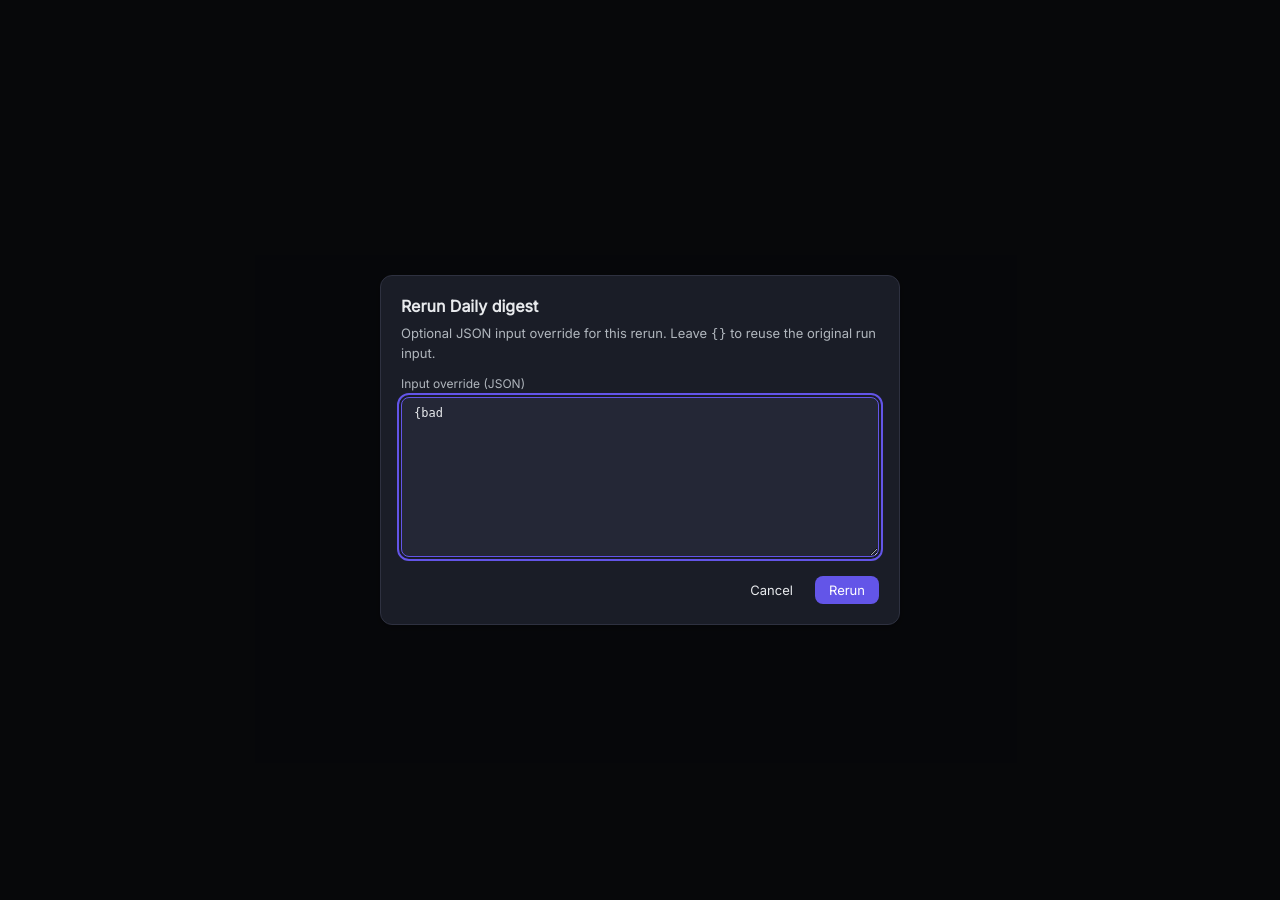
Test: RerunModal › shows JSON parse errors inline
Click the button "Rerun".
click(847, 590)  # box [815,576,879,604]
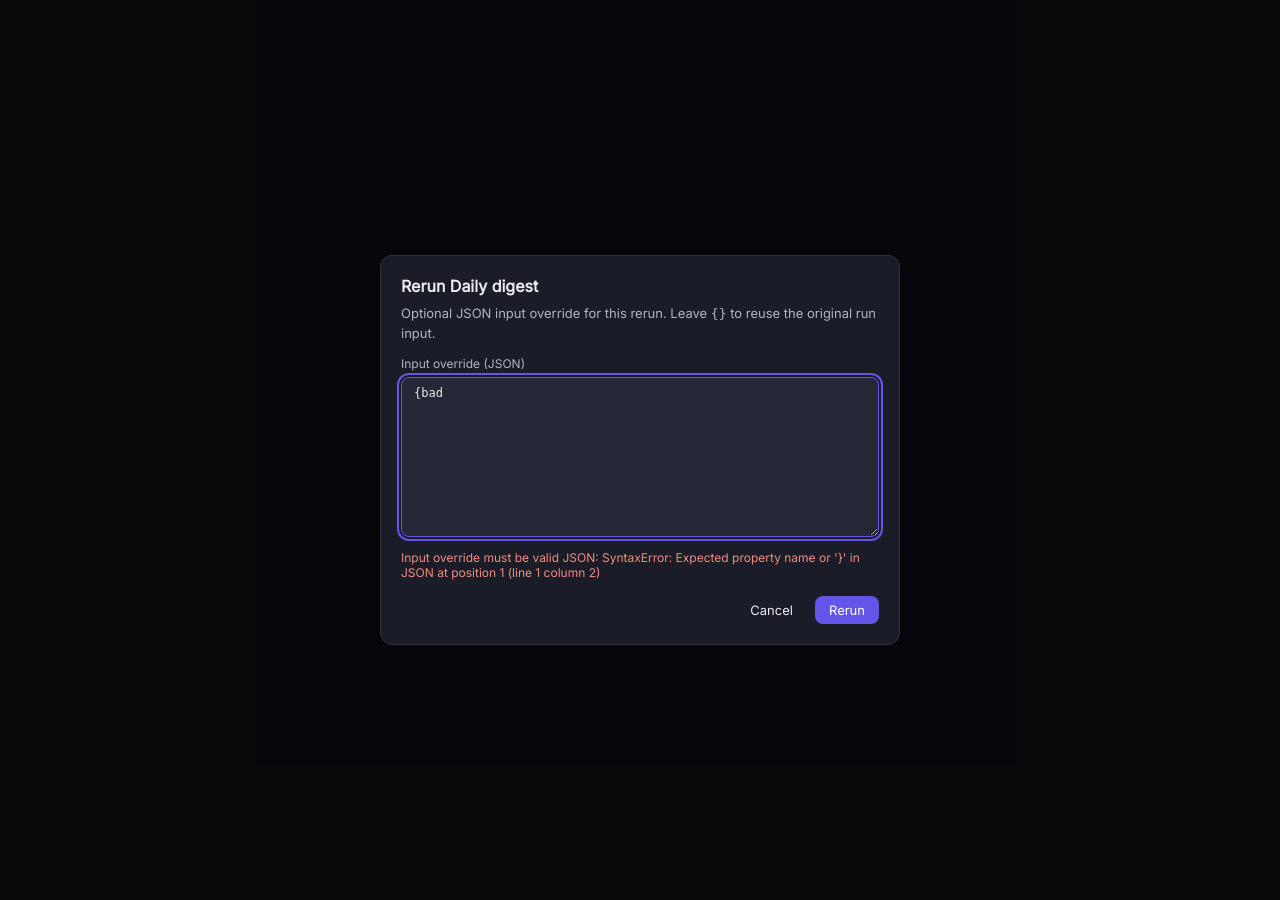
Expected: the message shows "valid JSON", [401,550,860,580]
